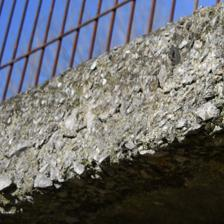Crack: (6, 66, 218, 166)
